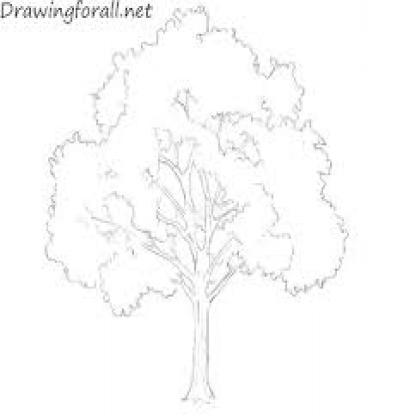branch_cut: (154, 153, 240, 309)
crown_dizzy: (46, 28, 348, 314)
trunk_bark: (189, 310, 211, 390)
